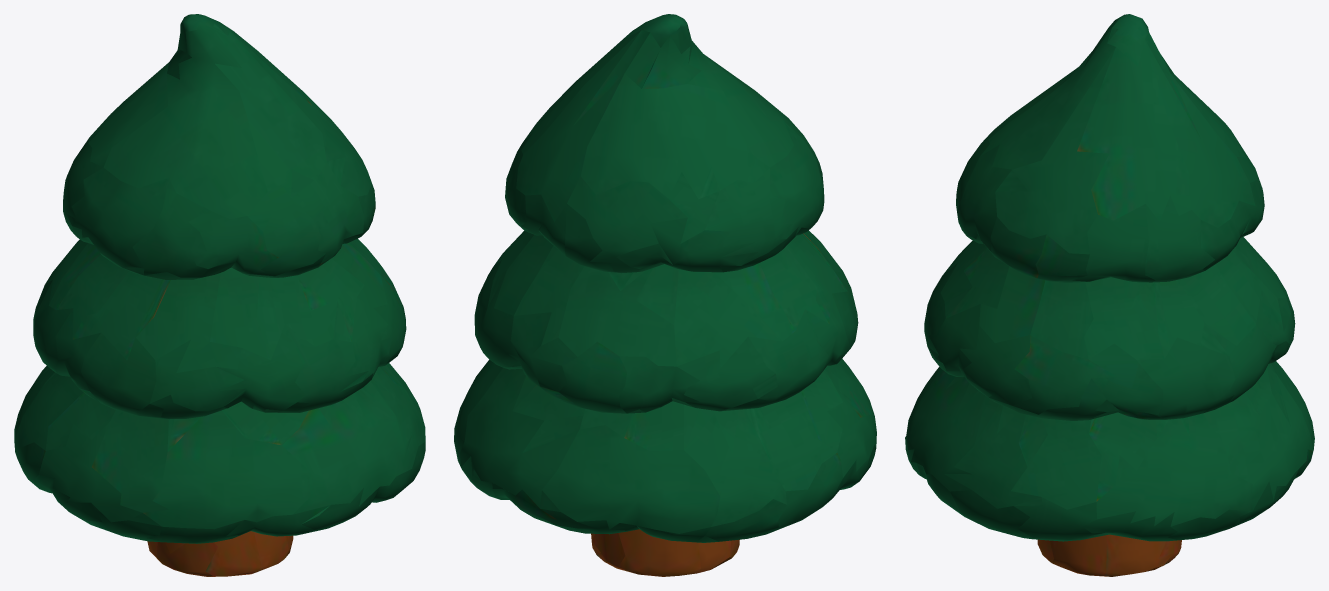
Rendered from skate-gran.glb.
The picture shows the model from 3 angles, left to right: view 1: azimuth 30°, elevation 25°; view 2: azimuth 150°, elevation 25°; view 3: azimuth 270°, elevation 25°; orthographic projection. The views are drawn at different scales.
Bounding box in the file's own units: 1.33 × 1.9 × 1.35.
1 material, 1 textured.
